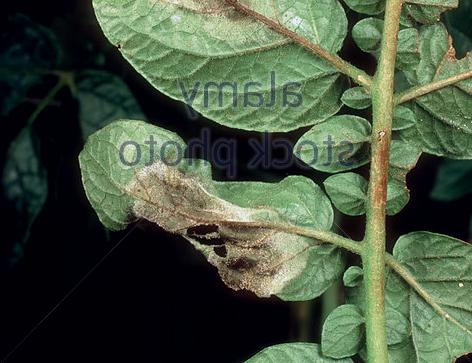Tomato leaf late blight: (70, 113, 354, 303), (80, 0, 349, 134)
